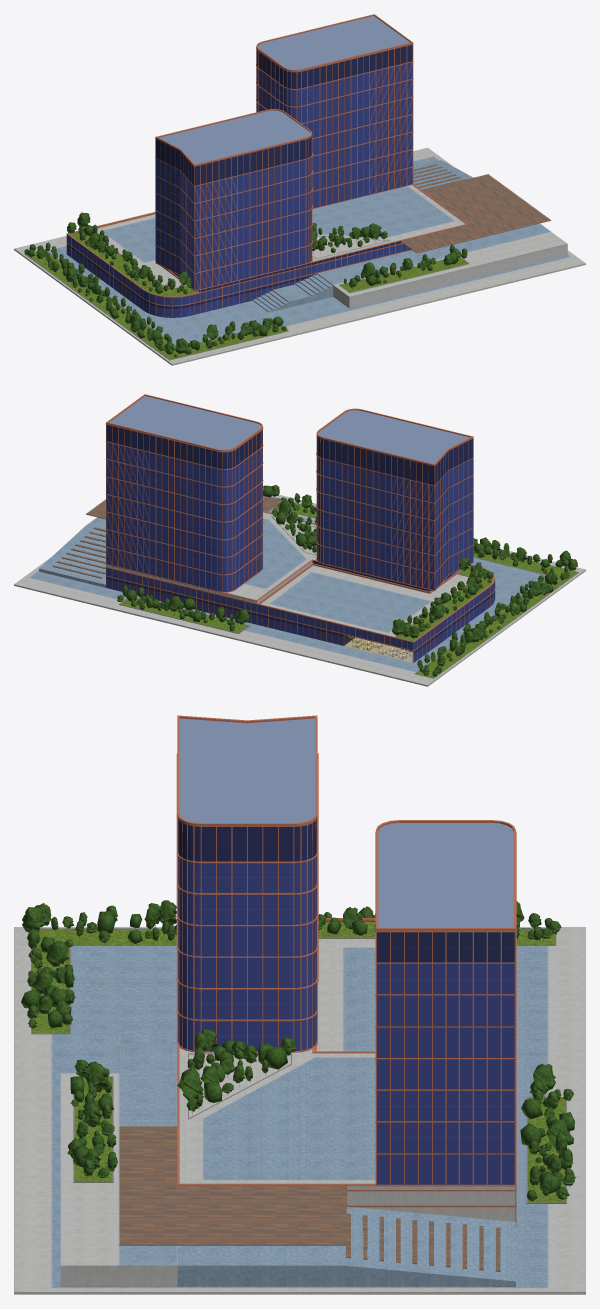
File: millenium-panorama-compressed.glb
3 views of the same model, one above another, from view 1: azimuth 30°, elevation 25°; view 2: azimuth 150°, elevation 25°; view 3: azimuth 270°, elevation 25° (orthographic). The views are drawn at different scales.
Parts seen in each view (by area): view 1: foundation.001, building 1, building 2, trees, foundation, lawn; view 2: building 2, building 1, foundation.001, trees, foundation, lawn, aeneoclsbdg000001_aeneoclsbdg000001_0.019; view 3: foundation.001, building 2, building 1, trees, lawn, foundation.
Boxes of the visible parts, bbox=[...] form: foundation.001: bbox=[14, 147, 585, 365]; building 1: bbox=[155, 109, 312, 291]; building 2: bbox=[256, 14, 413, 209]; trees: bbox=[24, 212, 467, 357]; foundation: bbox=[66, 184, 467, 317]; lawn: bbox=[24, 232, 469, 360]; building 2: bbox=[105, 394, 263, 592]; building 1: bbox=[316, 408, 473, 591]; foundation.001: bbox=[14, 494, 585, 686]; trees: bbox=[117, 485, 577, 676]; foundation: bbox=[105, 511, 495, 662]; lawn: bbox=[119, 497, 578, 678]; aeneoclsbdg000001_aeneoclsbdg000001_0.019: bbox=[344, 635, 412, 662]; foundation.001: bbox=[14, 927, 585, 1294]; building 2: bbox=[375, 820, 516, 1186]; building 1: bbox=[176, 715, 318, 1052]; trees: bbox=[21, 900, 575, 1202]; lawn: bbox=[31, 921, 566, 1203]; foundation: bbox=[177, 918, 516, 1227].
Bounding box in the file's own units: 149 × 57.27 × 98.
Materials: 27 (11 with a texture image).
